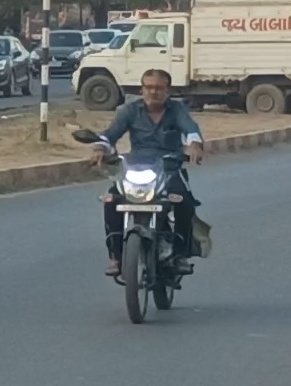BikeWithRider: (66, 64, 218, 324)
NoHelmet: (134, 65, 177, 108)
